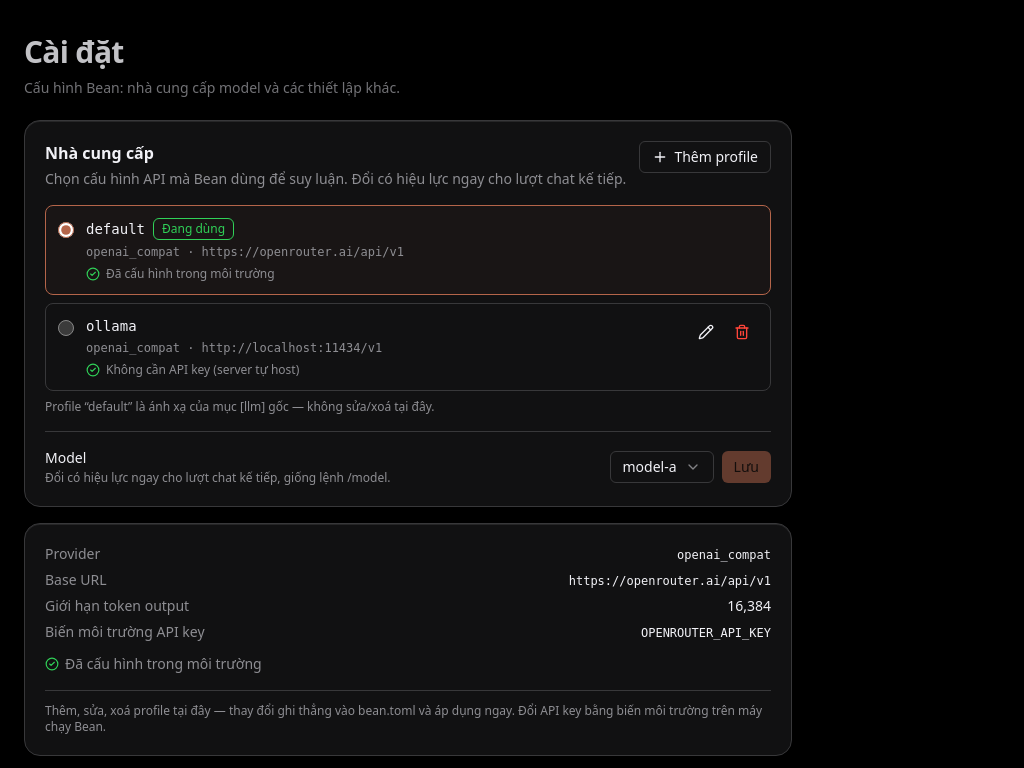
Test: SettingsPage — Providers CRUD › xoá profile không active: DELETE được gọi, card biến mất
The image size is (1024, 768).
Click the button named "Xoá profile" at (742, 332), box left=726, top=316, right=758, bottom=348
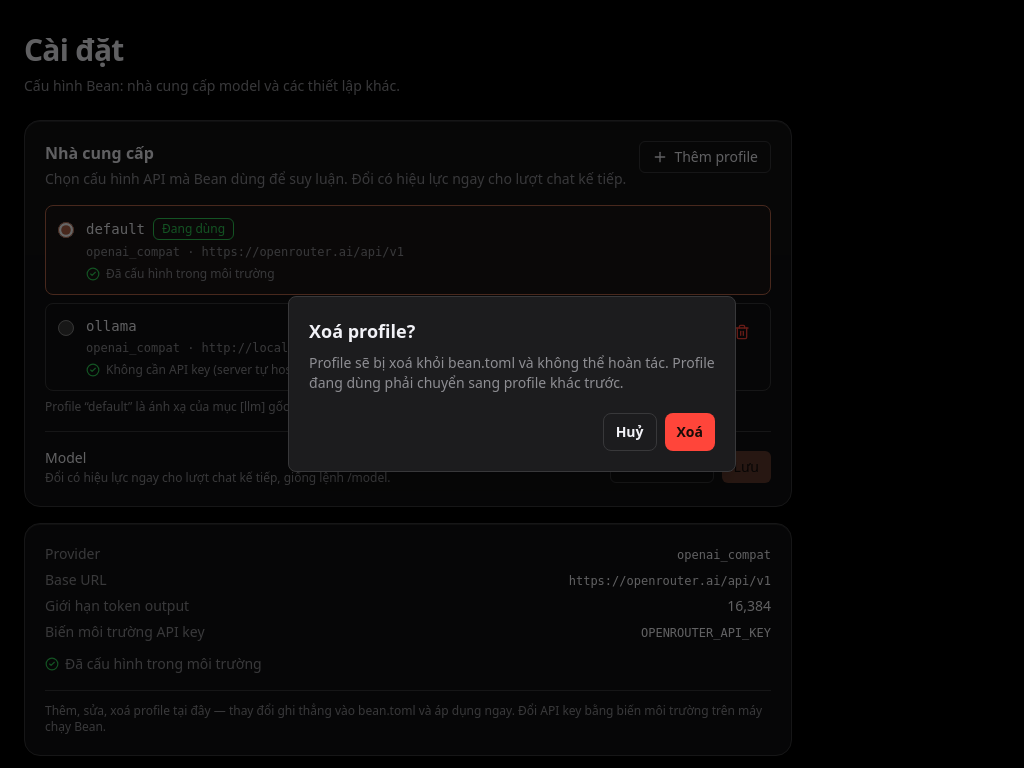
Now the dialog shows "Xoá profile?", box left=309, top=319, right=415, bottom=343
Click the button "Xoá" at (690, 432), box left=664, top=413, right=715, bottom=451
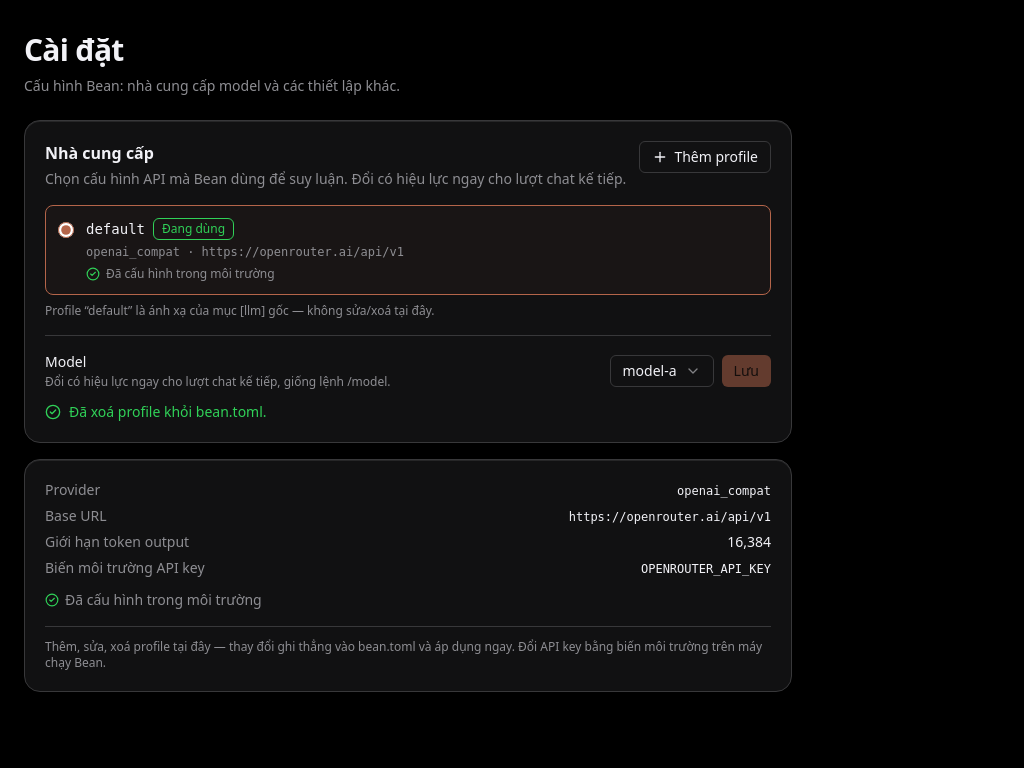
Now the text "Đã xoá profile khỏi bean.toml." is shown, box left=45, top=402, right=267, bottom=421
Now the text "ollama" is gone
